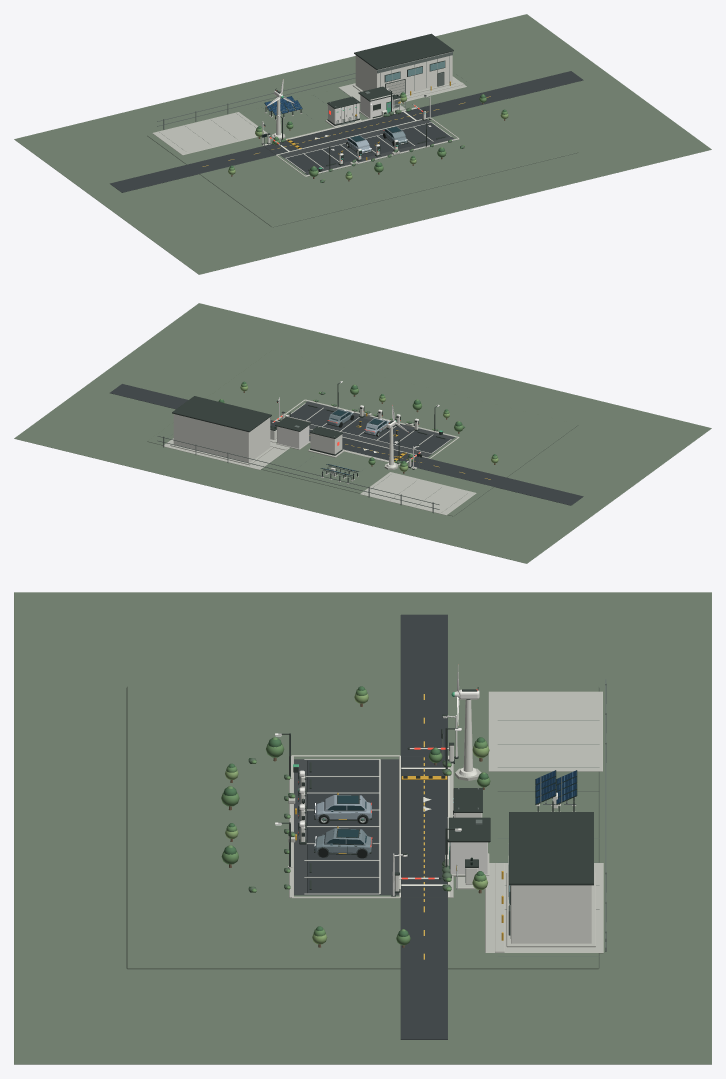
The model's file is energy-campus.glb.
The picture shows the model from 3 angles, top to bottom: view 1: azimuth 30°, elevation 25°; view 2: azimuth 150°, elevation 25°; view 3: azimuth 270°, elevation 25°; orthographic projection. The views are drawn at different scales.
Visible parts, largest first — view 1: Far lawn, Site lawn, West utility paving, West approach, Hall shell, East exit, Hall roof, North road, Bay apron, Service yard paving, Building wall; view 2: Far lawn, Site lawn, Hall shell, West utility paving, West approach, Hall roof, Bay apron, East exit, North road, Service yard paving, Building wall, Storage shell; view 3: Far lawn, Site lawn, West utility paving, East exit, West approach, Hall roof, North road, Bay apron, Hall shell, Service yard paving, Bay pad, Bay pad.001 (+8 smaller).
Boxes of the visible parts, x1=… form: Far lawn: x1=14, y1=14, x2=711, y2=274; Site lawn: x1=147, y1=61, x2=578, y2=227; West utility paving: x1=152, y1=112, x2=267, y2=155; West approach: x1=110, y1=146, x2=275, y2=192; Hall shell: x1=355, y1=51, x2=452, y2=93; East exit: x1=417, y1=71, x2=583, y2=117; Hall roof: x1=354, y1=33, x2=453, y2=69; North road: x1=264, y1=108, x2=428, y2=154; Bay apron: x1=280, y1=118, x2=454, y2=175; Service yard paving: x1=338, y1=76, x2=466, y2=103; Building wall: x1=360, y1=95, x2=392, y2=118; Far lawn: x1=14, y1=303, x2=711, y2=563; Site lawn: x1=147, y1=350, x2=578, y2=516; Hall shell: x1=173, y1=414, x2=270, y2=462; West utility paving: x1=360, y1=472, x2=476, y2=515; West approach: x1=417, y1=459, x2=583, y2=505; Hall roof: x1=172, y1=396, x2=271, y2=432; Bay apron: x1=288, y1=401, x2=454, y2=457; East exit: x1=110, y1=384, x2=275, y2=424; North road: x1=270, y1=421, x2=429, y2=467; Service yard paving: x1=162, y1=438, x2=289, y2=469; Building wall: x1=277, y1=425, x2=309, y2=448; Storage shell: x1=310, y1=433, x2=342, y2=454; Far lawn: x1=14, y1=592, x2=711, y2=1064; Site lawn: x1=127, y1=686, x2=598, y2=968; West utility paving: x1=488, y1=691, x2=602, y2=771; East exit: x1=400, y1=898, x2=447, y2=1039; West approach: x1=400, y1=614, x2=447, y2=756; Hall roof: x1=509, y1=812, x2=593, y2=885; North road: x1=401, y1=756, x2=447, y2=897; Bay apron: x1=294, y1=759, x2=398, y2=895; Hall shell: x1=511, y1=885, x2=591, y2=943; Service yard paving: x1=485, y1=863, x2=603, y2=953; Bay pad: x1=307, y1=760, x2=378, y2=775; Bay pad.001: x1=307, y1=777, x2=378, y2=792.
Bounding box in the file's own units: 80 × 9.55 × 50.
